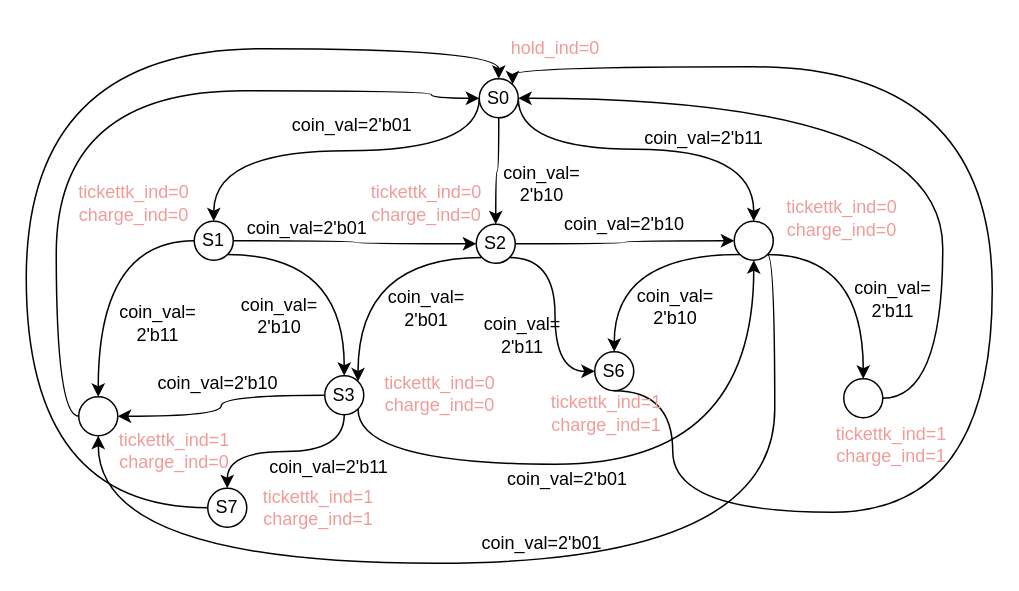
Image size: 1019x591. Some labels were removed from this diagram. Here are the shapes that lost their labels. From the top down, the centre of each, then its label:
[753,240]: S4
[97,415]: S5
[862,397]: S8
